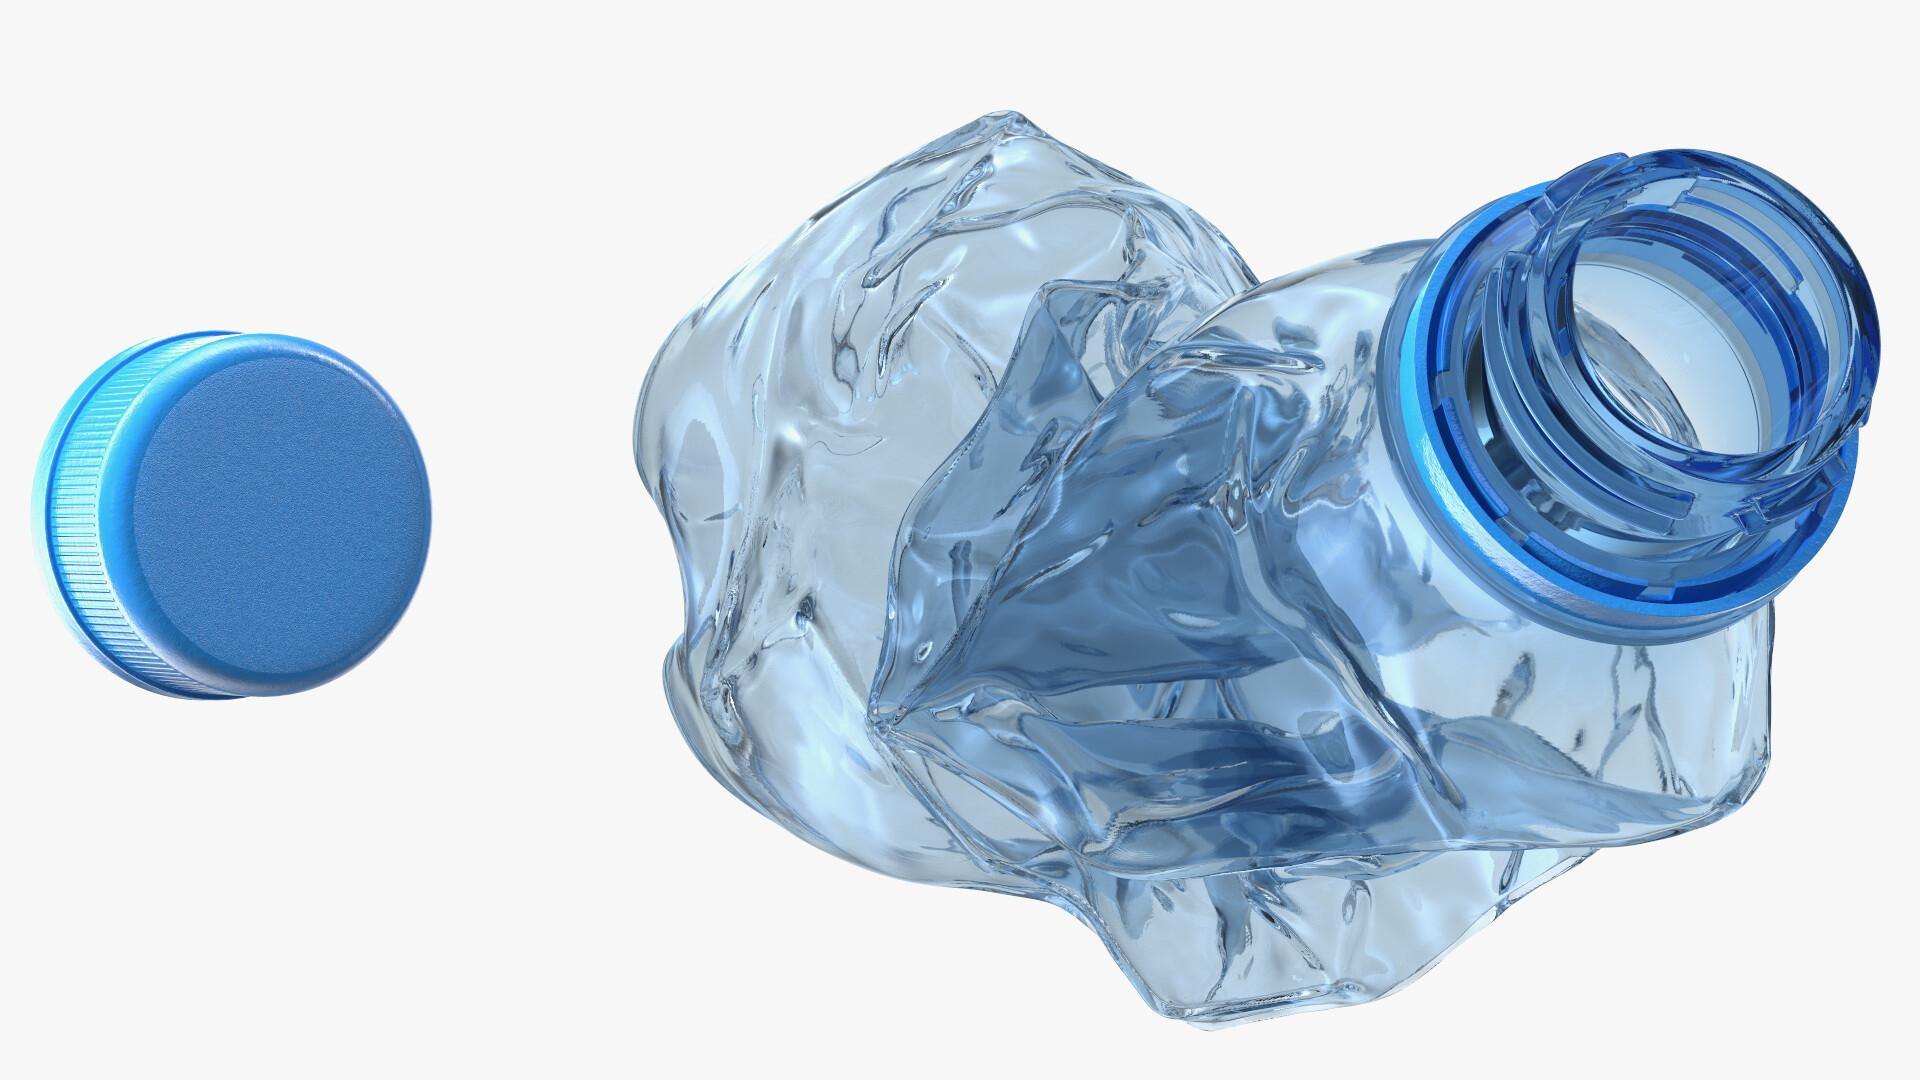plastic: (626, 113, 1896, 1010)
